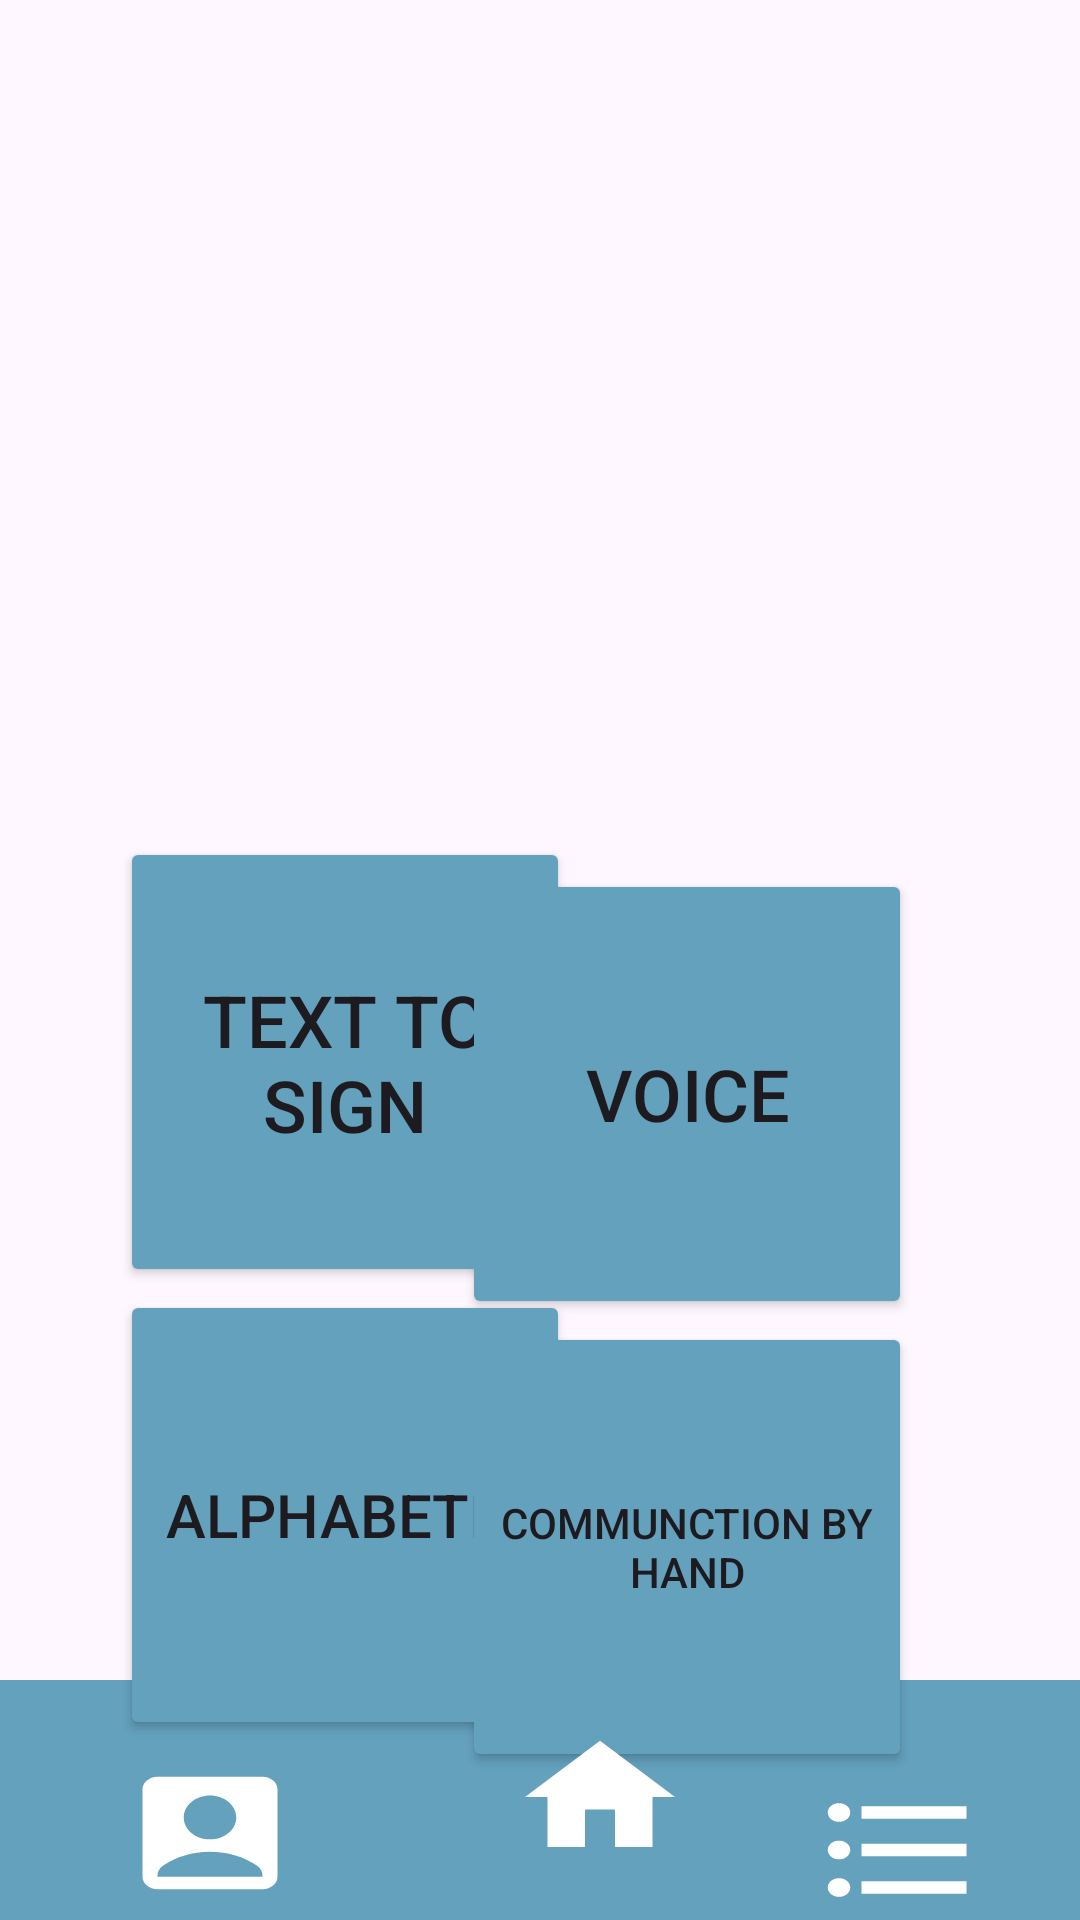

Named icons in this screenshot (1080w x 1920h) and their centers, [x,y]:
format list: [897,1850]
home: [600,1794]
